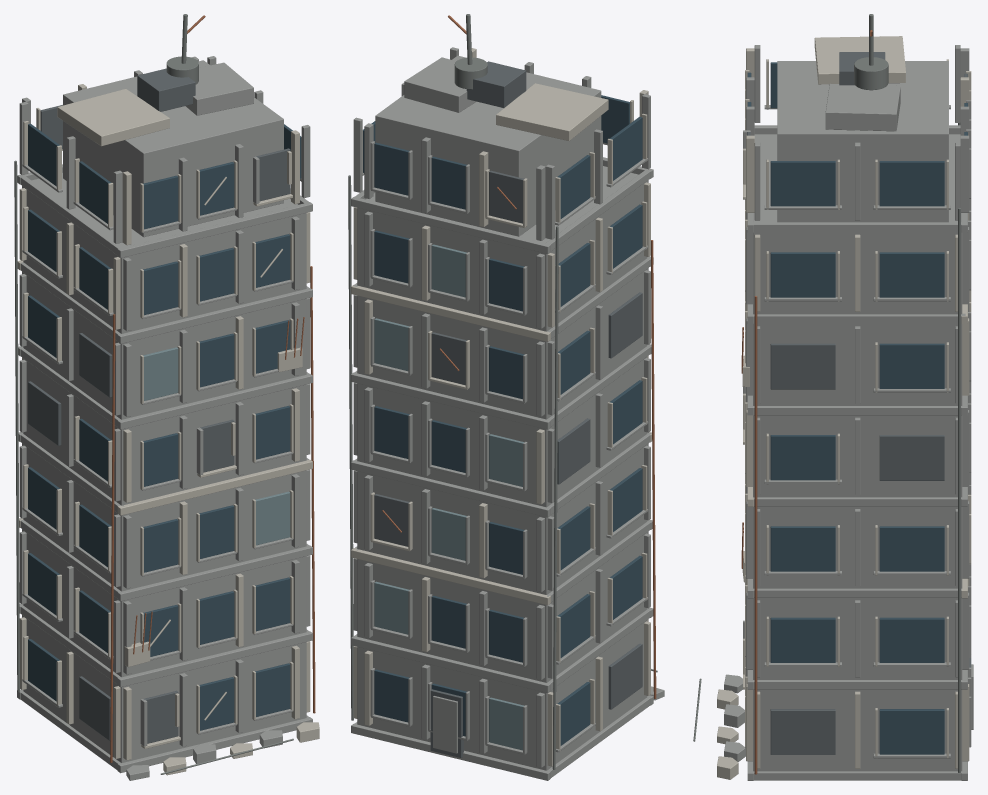
Rendered from Apoc_Building_01_Residential_Ruin.fbx.
The picture shows the model from 3 angles, left to right: view 1: azimuth 30°, elevation 25°; view 2: azimuth 150°, elevation 25°; view 3: azimuth 270°, elevation 25°; orthographic projection. The views are drawn at different scales.
Visible parts, largest first — view 1: Apoc_Building_01_Residential_Ruin; view 2: Apoc_Building_01_Residential_Ruin; view 3: Apoc_Building_01_Residential_Ruin.
Part boxes in pixels (x1,y1,x2,y2): Apoc_Building_01_Residential_Ruin: [14, 14, 319, 780]; Apoc_Building_01_Residential_Ruin: [348, 14, 664, 780]; Apoc_Building_01_Residential_Ruin: [693, 14, 973, 780].
Size of the model in its own units: 5.55 by 17.7 by 6.15.
